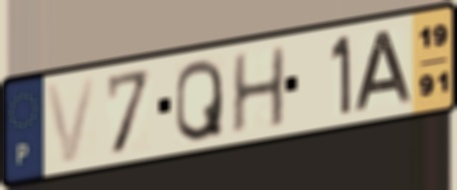1: (328, 33, 354, 118)
7: (104, 65, 154, 159)
A: (352, 28, 416, 113)
H: (228, 43, 288, 137)
Q: (173, 55, 226, 144)
V: (42, 73, 101, 167)
